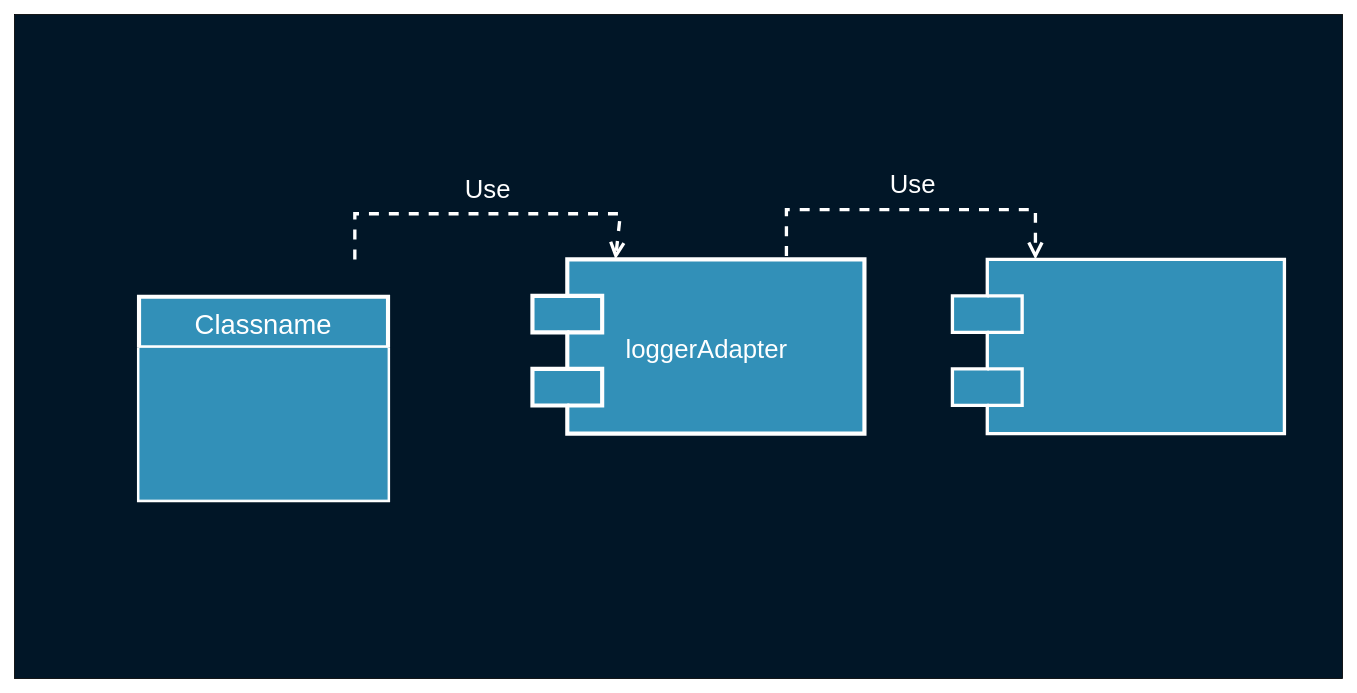
This 1357x693 diagram has some shape labels left out. The shapes that lost their labels are listed below. From the top down, each one's centre as x and y in pixels, then its label:
At (x=1118, y=346): "consoleLogger".
At (x=263, y=423): "+ field: type".
